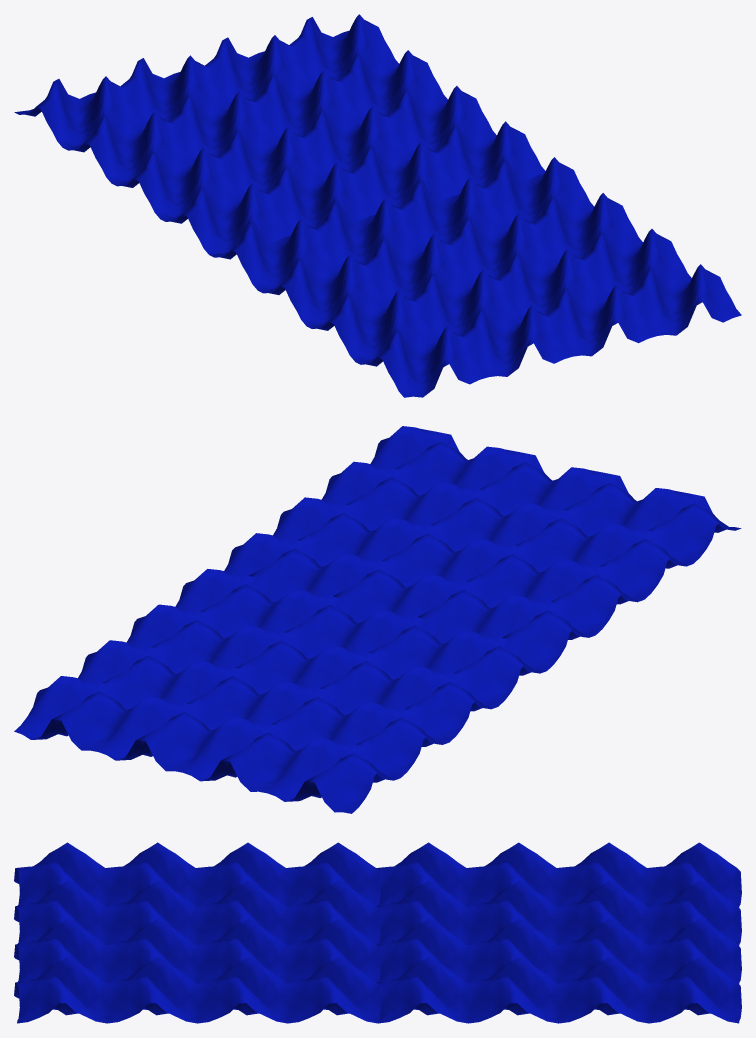
Rendered from ocean.fbx.
The picture shows the model from 3 angles, top to bottom: view 1: azimuth 30°, elevation 25°; view 2: azimuth 150°, elevation 25°; view 3: azimuth 270°, elevation 25°; orthographic projection. The views are drawn at different scales.
Visible parts, largest first — view 1: Plane, Plane.001; view 2: Plane.001, Plane; view 3: Plane, Plane.001.
Boxes of the visible parts, x1=… form: Plane: x1=209, y1=157, x2=741, y2=397; Plane.001: x1=14, y1=14, x2=545, y2=254; Plane.001: x1=14, y1=569, x2=546, y2=813; Plane: x1=224, y1=426, x2=741, y2=670; Plane: x1=14, y1=842, x2=380, y2=1023; Plane.001: x1=376, y1=842, x2=741, y2=1023.
Size of the model in its own units: 20194 by 2795 by 40325.
